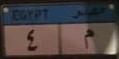4: (24, 28, 40, 52)
meem: (81, 27, 96, 49)
